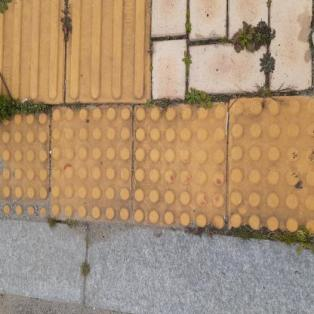Podoctatil: (0, 0, 313, 254)
